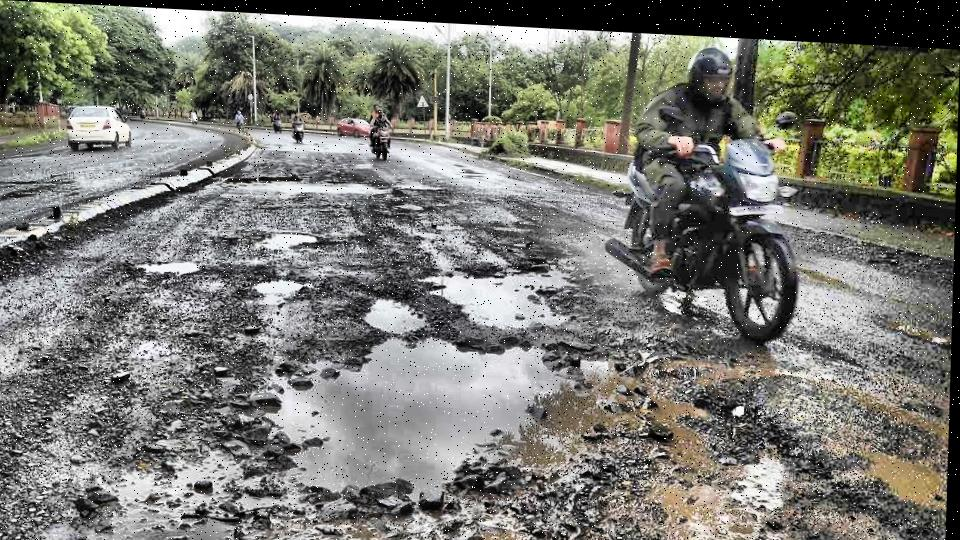pothole: (233, 322, 584, 511), (427, 247, 582, 334), (361, 289, 431, 337), (251, 224, 324, 254), (254, 271, 309, 304), (132, 252, 207, 276)
